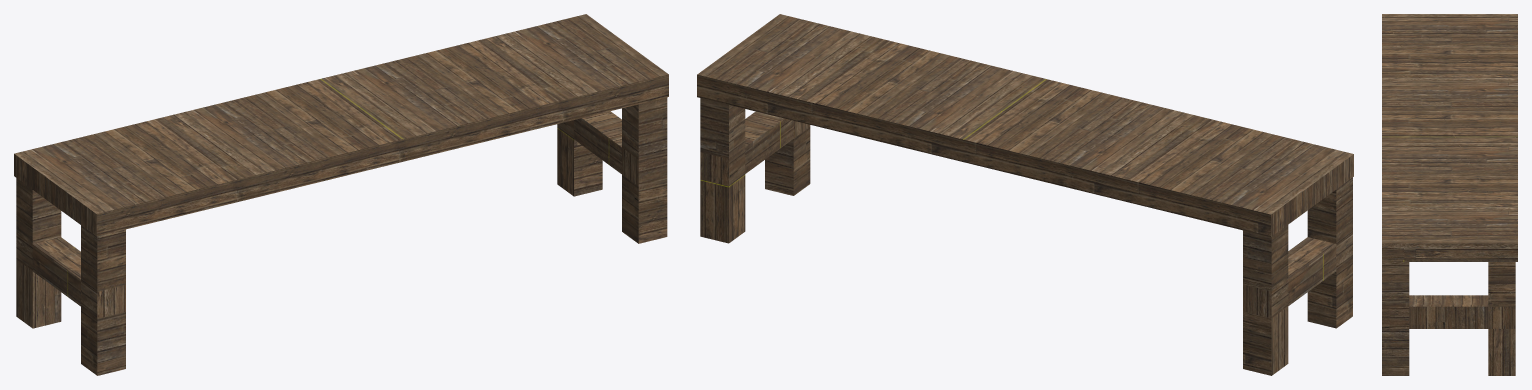
Rendered from stage8_logtile.fbx.
3 renders of one model, left to right at view 1: azimuth 30°, elevation 25°; view 2: azimuth 150°, elevation 25°; view 3: azimuth 270°, elevation 25°, orthographic. The views are drawn at different scales.
Parts seen in each view (by area): view 1: tile; view 2: tile; view 3: tile.
Part boxes in pixels (x1,y1,x2,y2): tile: (14, 14, 668, 375); tile: (697, 14, 1353, 375); tile: (1382, 14, 1517, 375).
Bounding box in the file's own units: 800 × 217 × 200.
